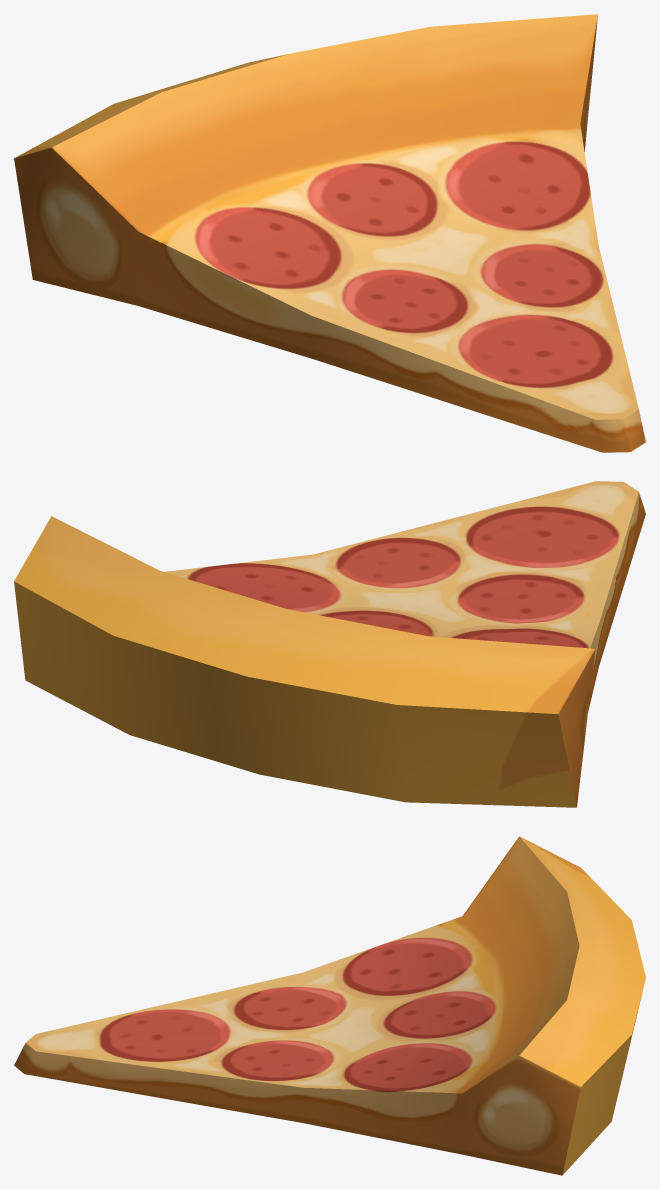
Rendered from pizza.FBX.
3 views of the same model, one above another, from view 1: azimuth 30°, elevation 25°; view 2: azimuth 150°, elevation 25°; view 3: azimuth 270°, elevation 25° (orthographic). The views are drawn at different scales.
Visible parts, largest first — view 1: pizza; view 2: pizza; view 3: pizza.
Part boxes in pixels (x1,y1,x2,y2): pizza: [14, 14, 645, 452]; pizza: [14, 481, 645, 807]; pizza: [14, 836, 645, 1175].
Bounding box in the file's own units: 5.13 × 1.31 × 6.24.
